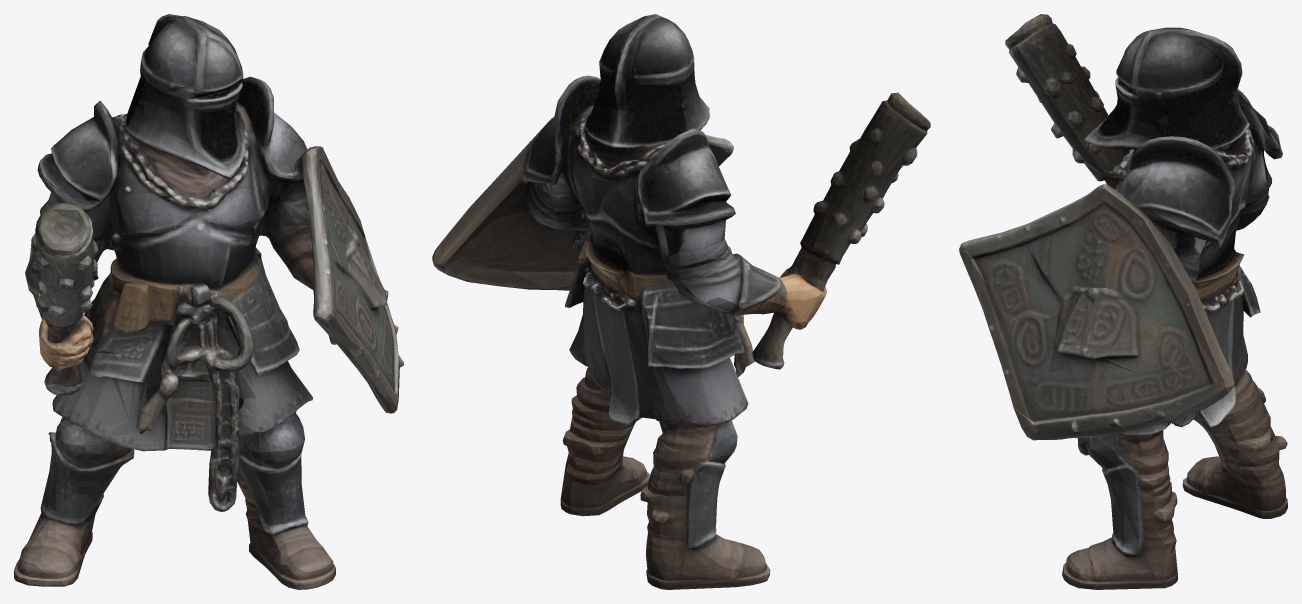
Rendered from prisonGuard.glb.
3 renders of one model, left to right at view 1: azimuth 30°, elevation 25°; view 2: azimuth 150°, elevation 25°; view 3: azimuth 270°, elevation 25°, orthographic. The views are drawn at different scales.
Parts seen in each view (by area): view 1: world; view 2: world; view 3: world.
Boxes of the visible parts, x1,y1,x2,y2 form: world: (14, 14, 403, 589); world: (432, 14, 930, 589); world: (959, 14, 1287, 589).
Bounding box in the file's own units: 0.8231 × 0.9993 × 0.5788.
Materials: 1 (1 with a texture image).
